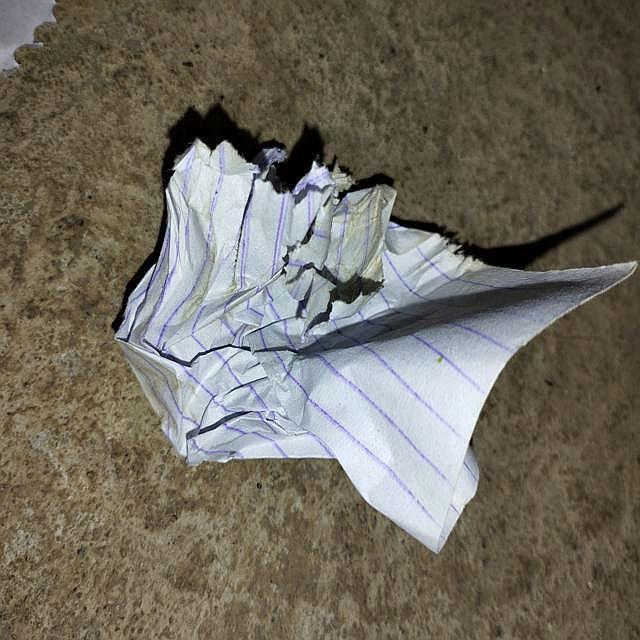Biodegradable: (111, 141, 640, 551)
